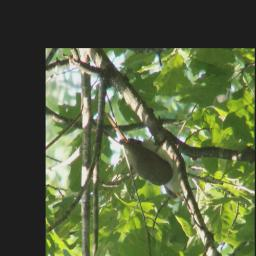Cuckoo: (103, 111, 186, 202)
